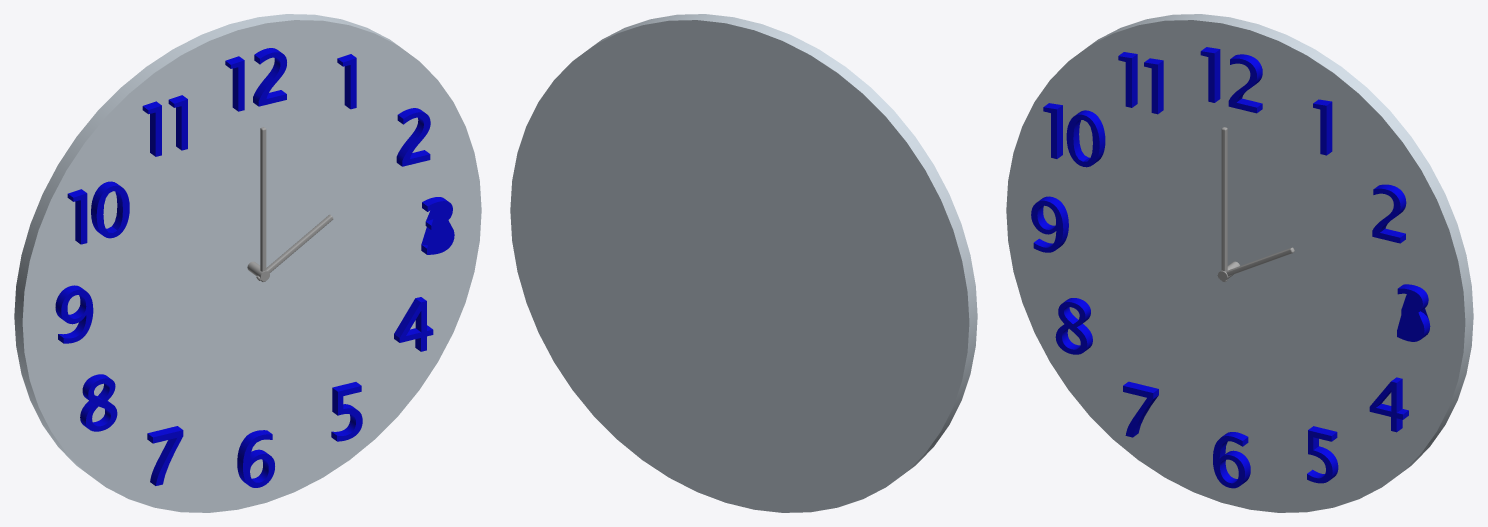
Rendered from Mode02.fbx.
The picture shows the model from 3 angles, left to right: view 1: azimuth 30°, elevation 25°; view 2: azimuth 150°, elevation 25°; view 3: azimuth 330°, elevation 25°; orthographic projection.
Parts seen in each view (by area): view 1: Back, N10, N12, N3, N8, N6, N9, N11, N2, N4, N5, N7 (+3 smaller); view 2: Back; view 3: Back, N10, N12, N3, N11, N8, N6, N9, N5, N4, N2, pCube5 (+2 smaller).
Part boxes in pixels (<box>): Back: <box>14,14,481,512</box>; N10: <box>67,181,129,244</box>; N12: <box>225,48,286,111</box>; N3: <box>421,197,454,254</box>; N8: <box>80,374,117,431</box>; N6: <box>237,430,274,487</box>; N9: <box>55,285,93,343</box>; N11: <box>142,95,187,156</box>; N2: <box>396,108,430,166</box>; N4: <box>394,297,433,351</box>; N5: <box>331,382,362,441</box>; N7: <box>147,426,183,485</box>; Back: <box>510,14,977,512</box>; Back: <box>1006,14,1473,512</box>; N10: <box>1043,103,1105,167</box>; N12: <box>1200,47,1262,113</box>; N3: <box>1397,284,1430,341</box>; N11: <box>1118,52,1163,114</box>; N8: <box>1055,298,1092,354</box>; N6: <box>1213,432,1250,488</box>; N9: <box>1031,196,1068,252</box>; N5: <box>1307,426,1338,483</box>; N4: <box>1369,377,1408,432</box>; N2: <box>1372,184,1406,243</box>; pCube5: <box>1221,127,1227,281</box>.
Size of the model in its own units: 98.2 by 98 by 7.96.
